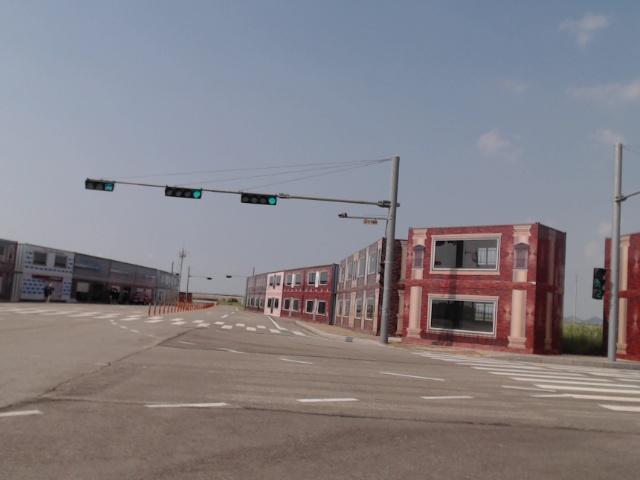straight_green_4: (241, 193, 277, 206), (165, 188, 203, 199)
